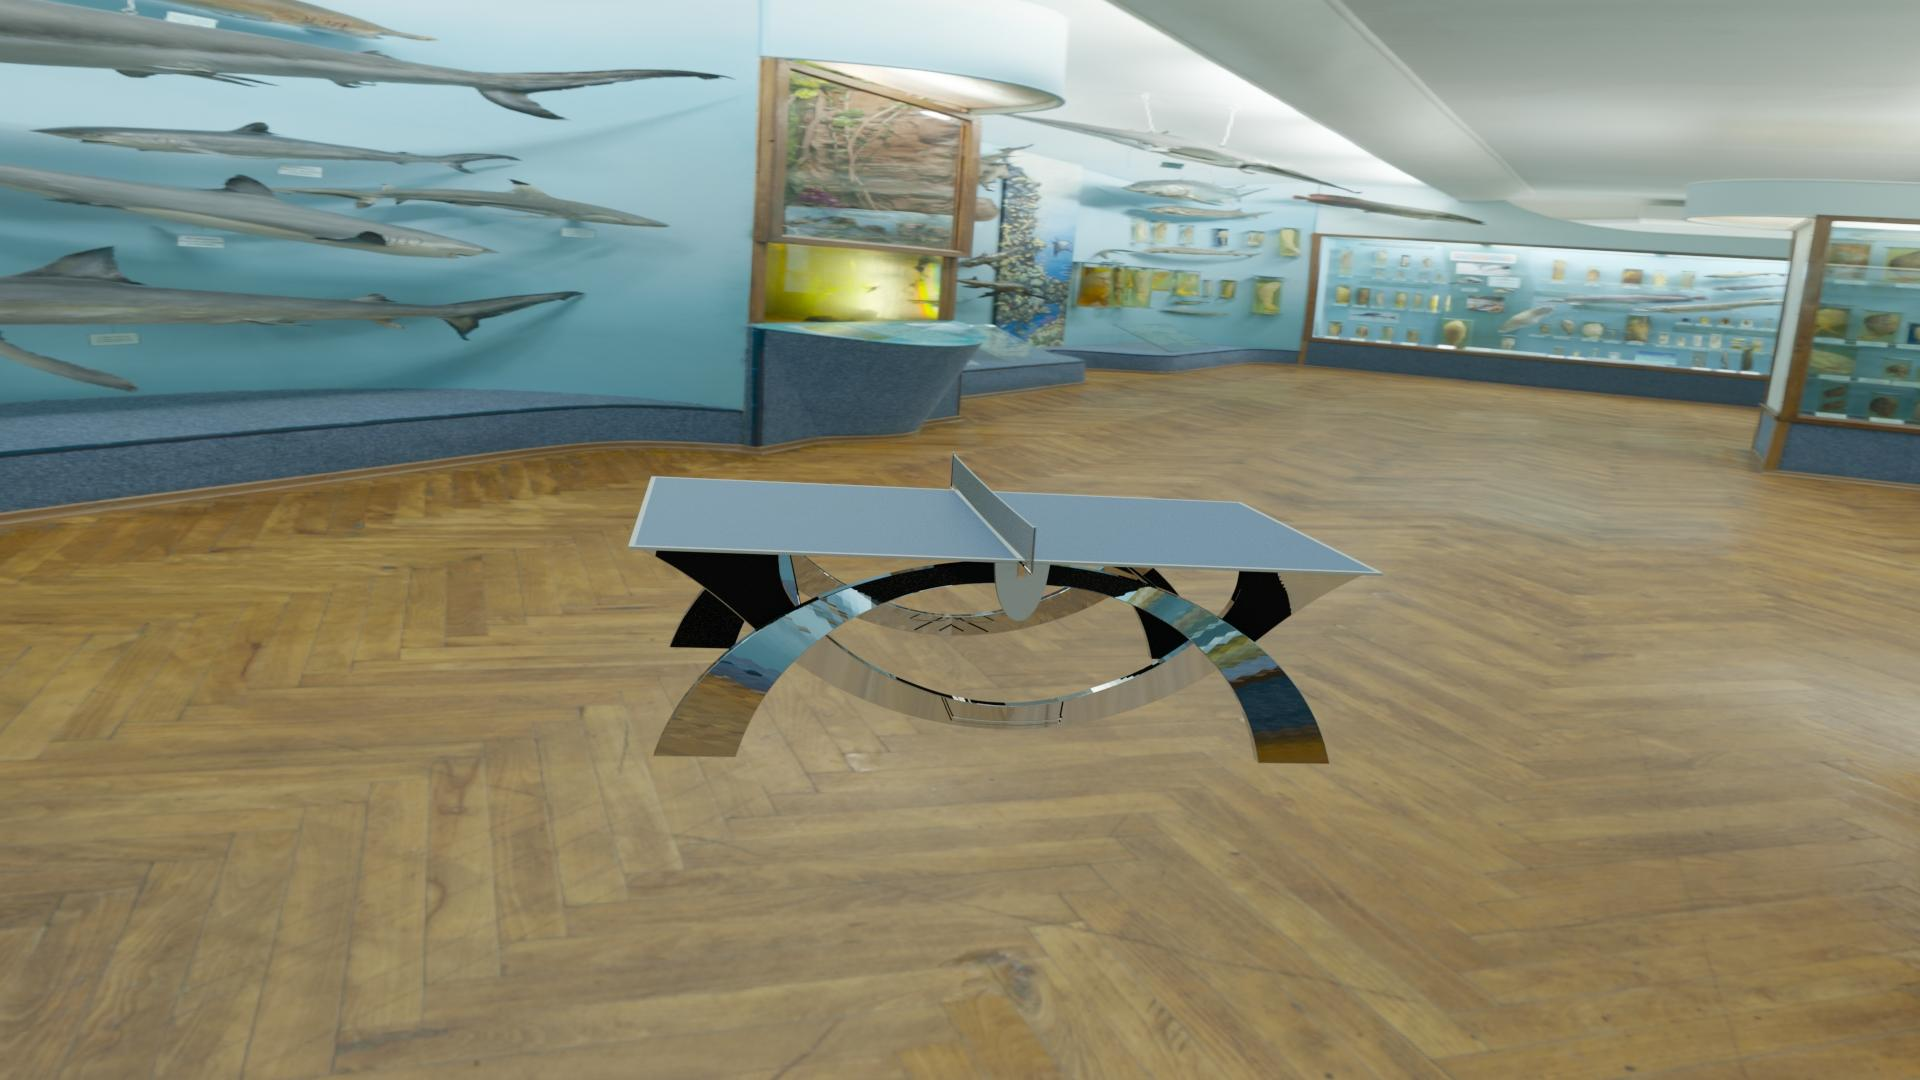table: (634, 477, 1377, 572)
